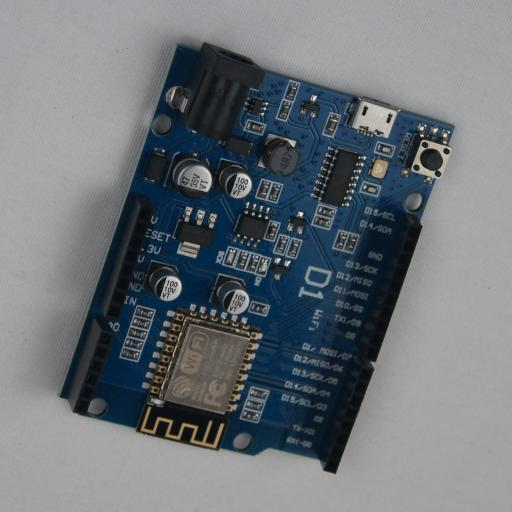Arduino Uno WiFi Shield: (58, 42, 454, 474)
